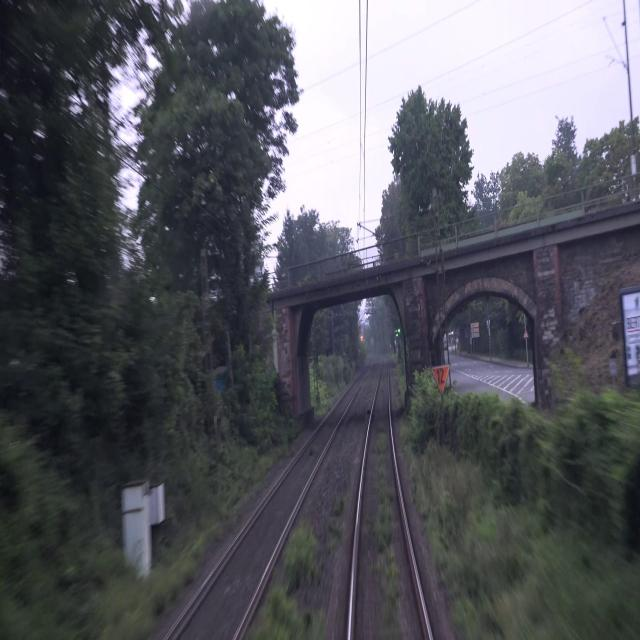rail-track: (169, 370, 366, 639), (352, 359, 428, 639)
